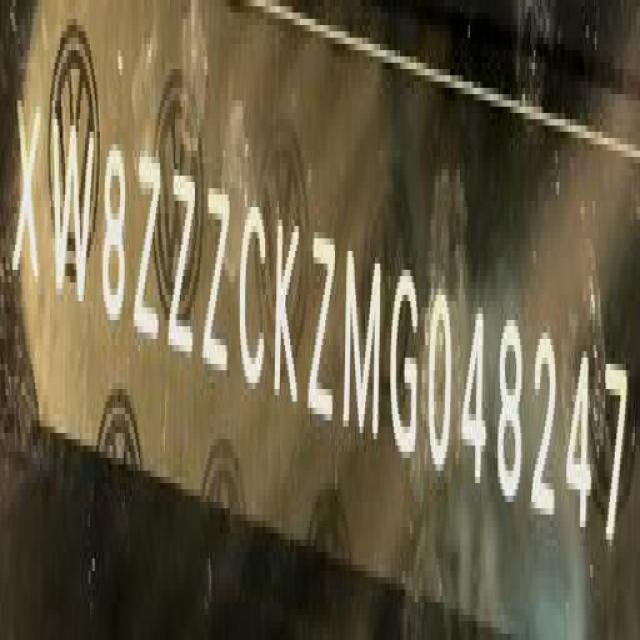0: (426, 278, 454, 478)
2: (530, 328, 559, 525)
4: (459, 295, 487, 490), (567, 345, 594, 537)
7: (603, 355, 631, 551)
8: (498, 310, 526, 507), (101, 137, 129, 332)
C: (238, 195, 269, 397)
G: (391, 256, 423, 466)
K: (274, 211, 302, 419)
M: (345, 241, 383, 452)
W: (49, 68, 93, 317)
X: (14, 82, 44, 300)
Z: (308, 222, 338, 436), (170, 157, 198, 365), (135, 147, 163, 350), (205, 180, 232, 386)
